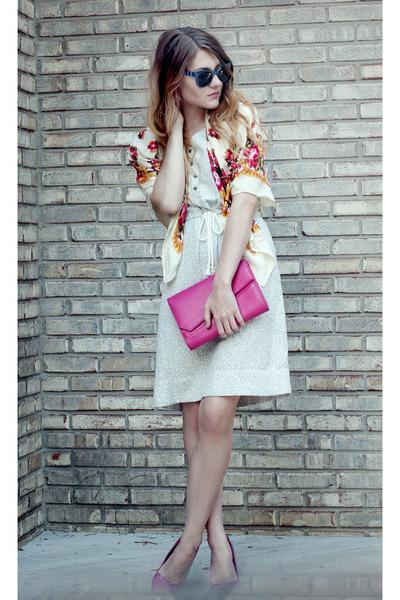bag: (167, 256, 268, 345)
dress: (132, 116, 290, 406)
shoe: (171, 564, 240, 599)
sunglass: (192, 64, 233, 102)
